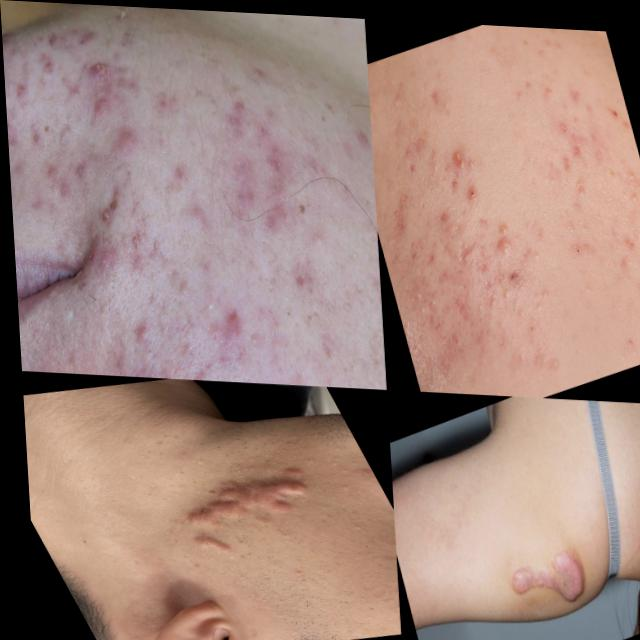6: (154, 456, 327, 534), (497, 526, 587, 621), (179, 528, 231, 556)
8: (61, 16, 134, 127), (16, 341, 68, 373)
9: (117, 304, 162, 352), (91, 187, 122, 233), (90, 240, 114, 283), (484, 207, 512, 239)
blackheads: (448, 227, 481, 265), (443, 131, 470, 173)
dark spot: (616, 149, 640, 208)
